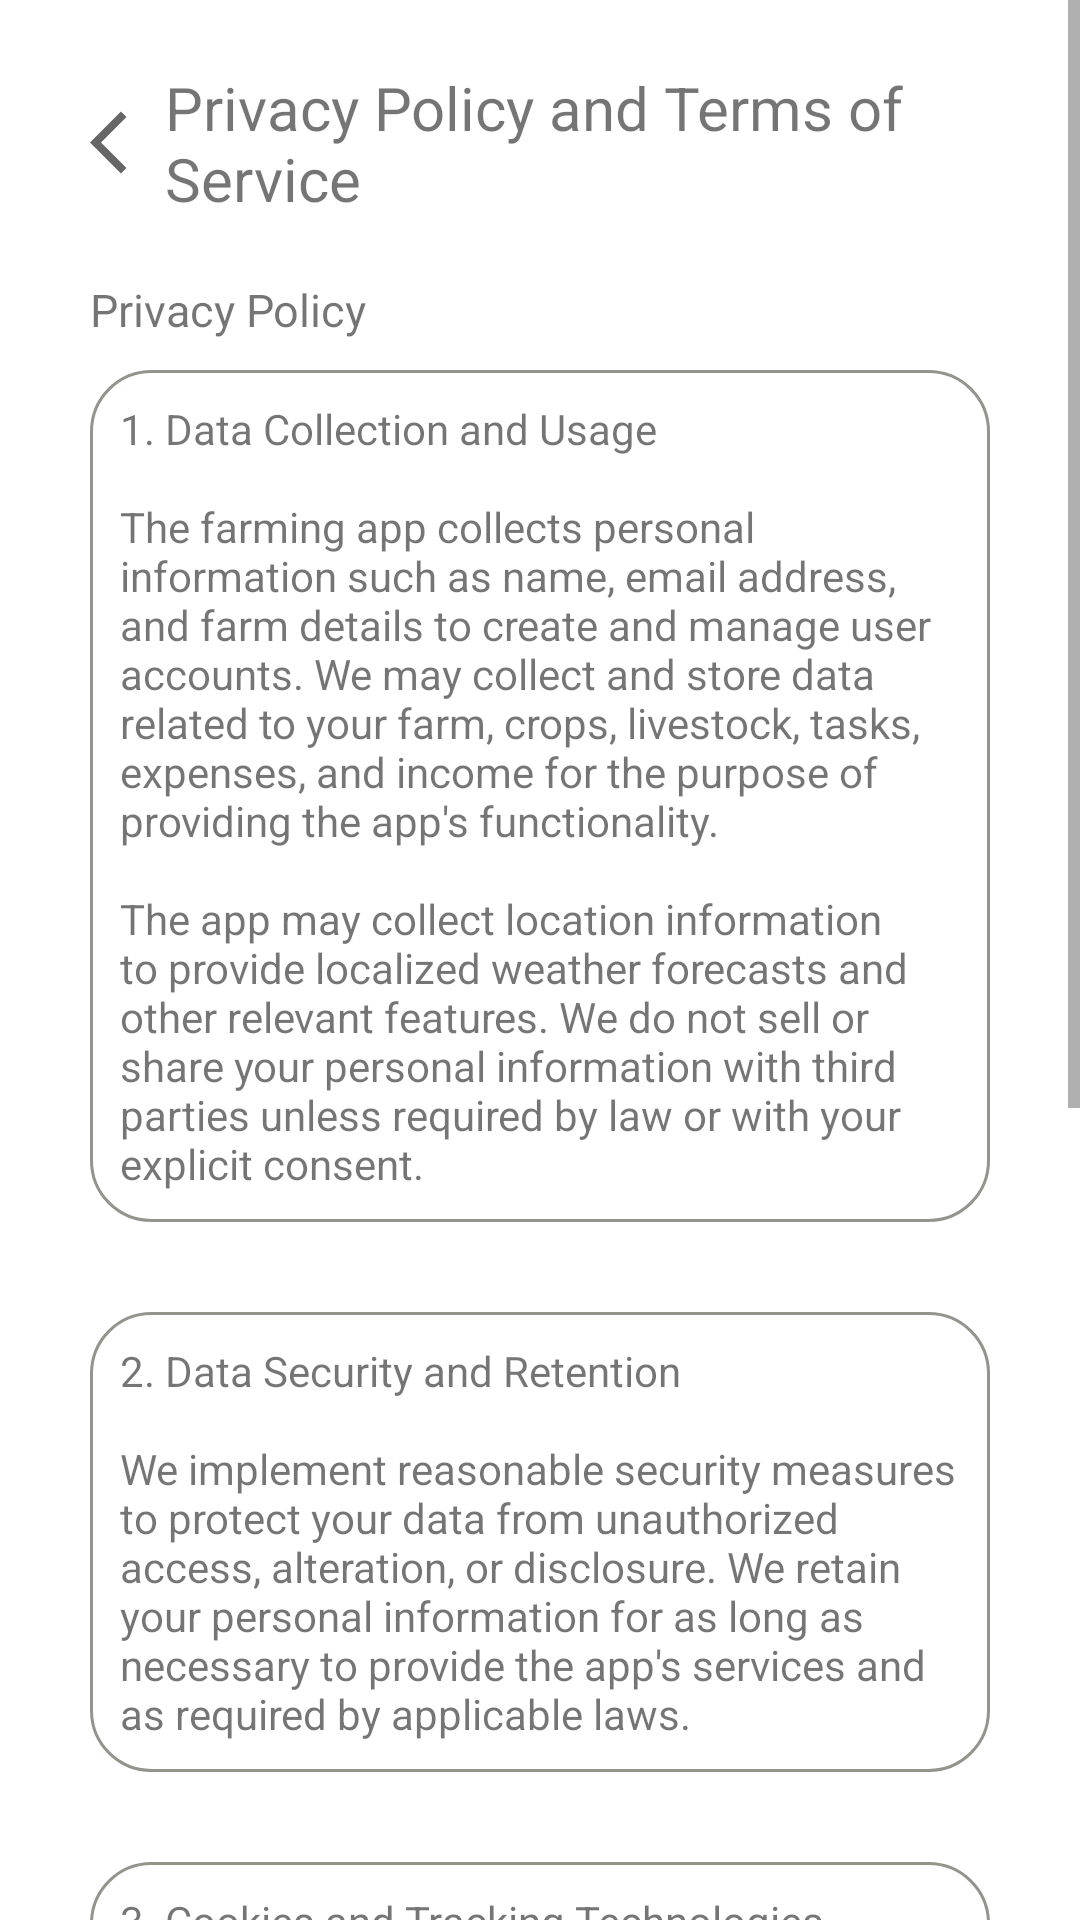

Icons on this 1080px x 1920px Android screen, each with its box as (x1, y1, x2, y2):
back arrow: (90, 112, 126, 174)
